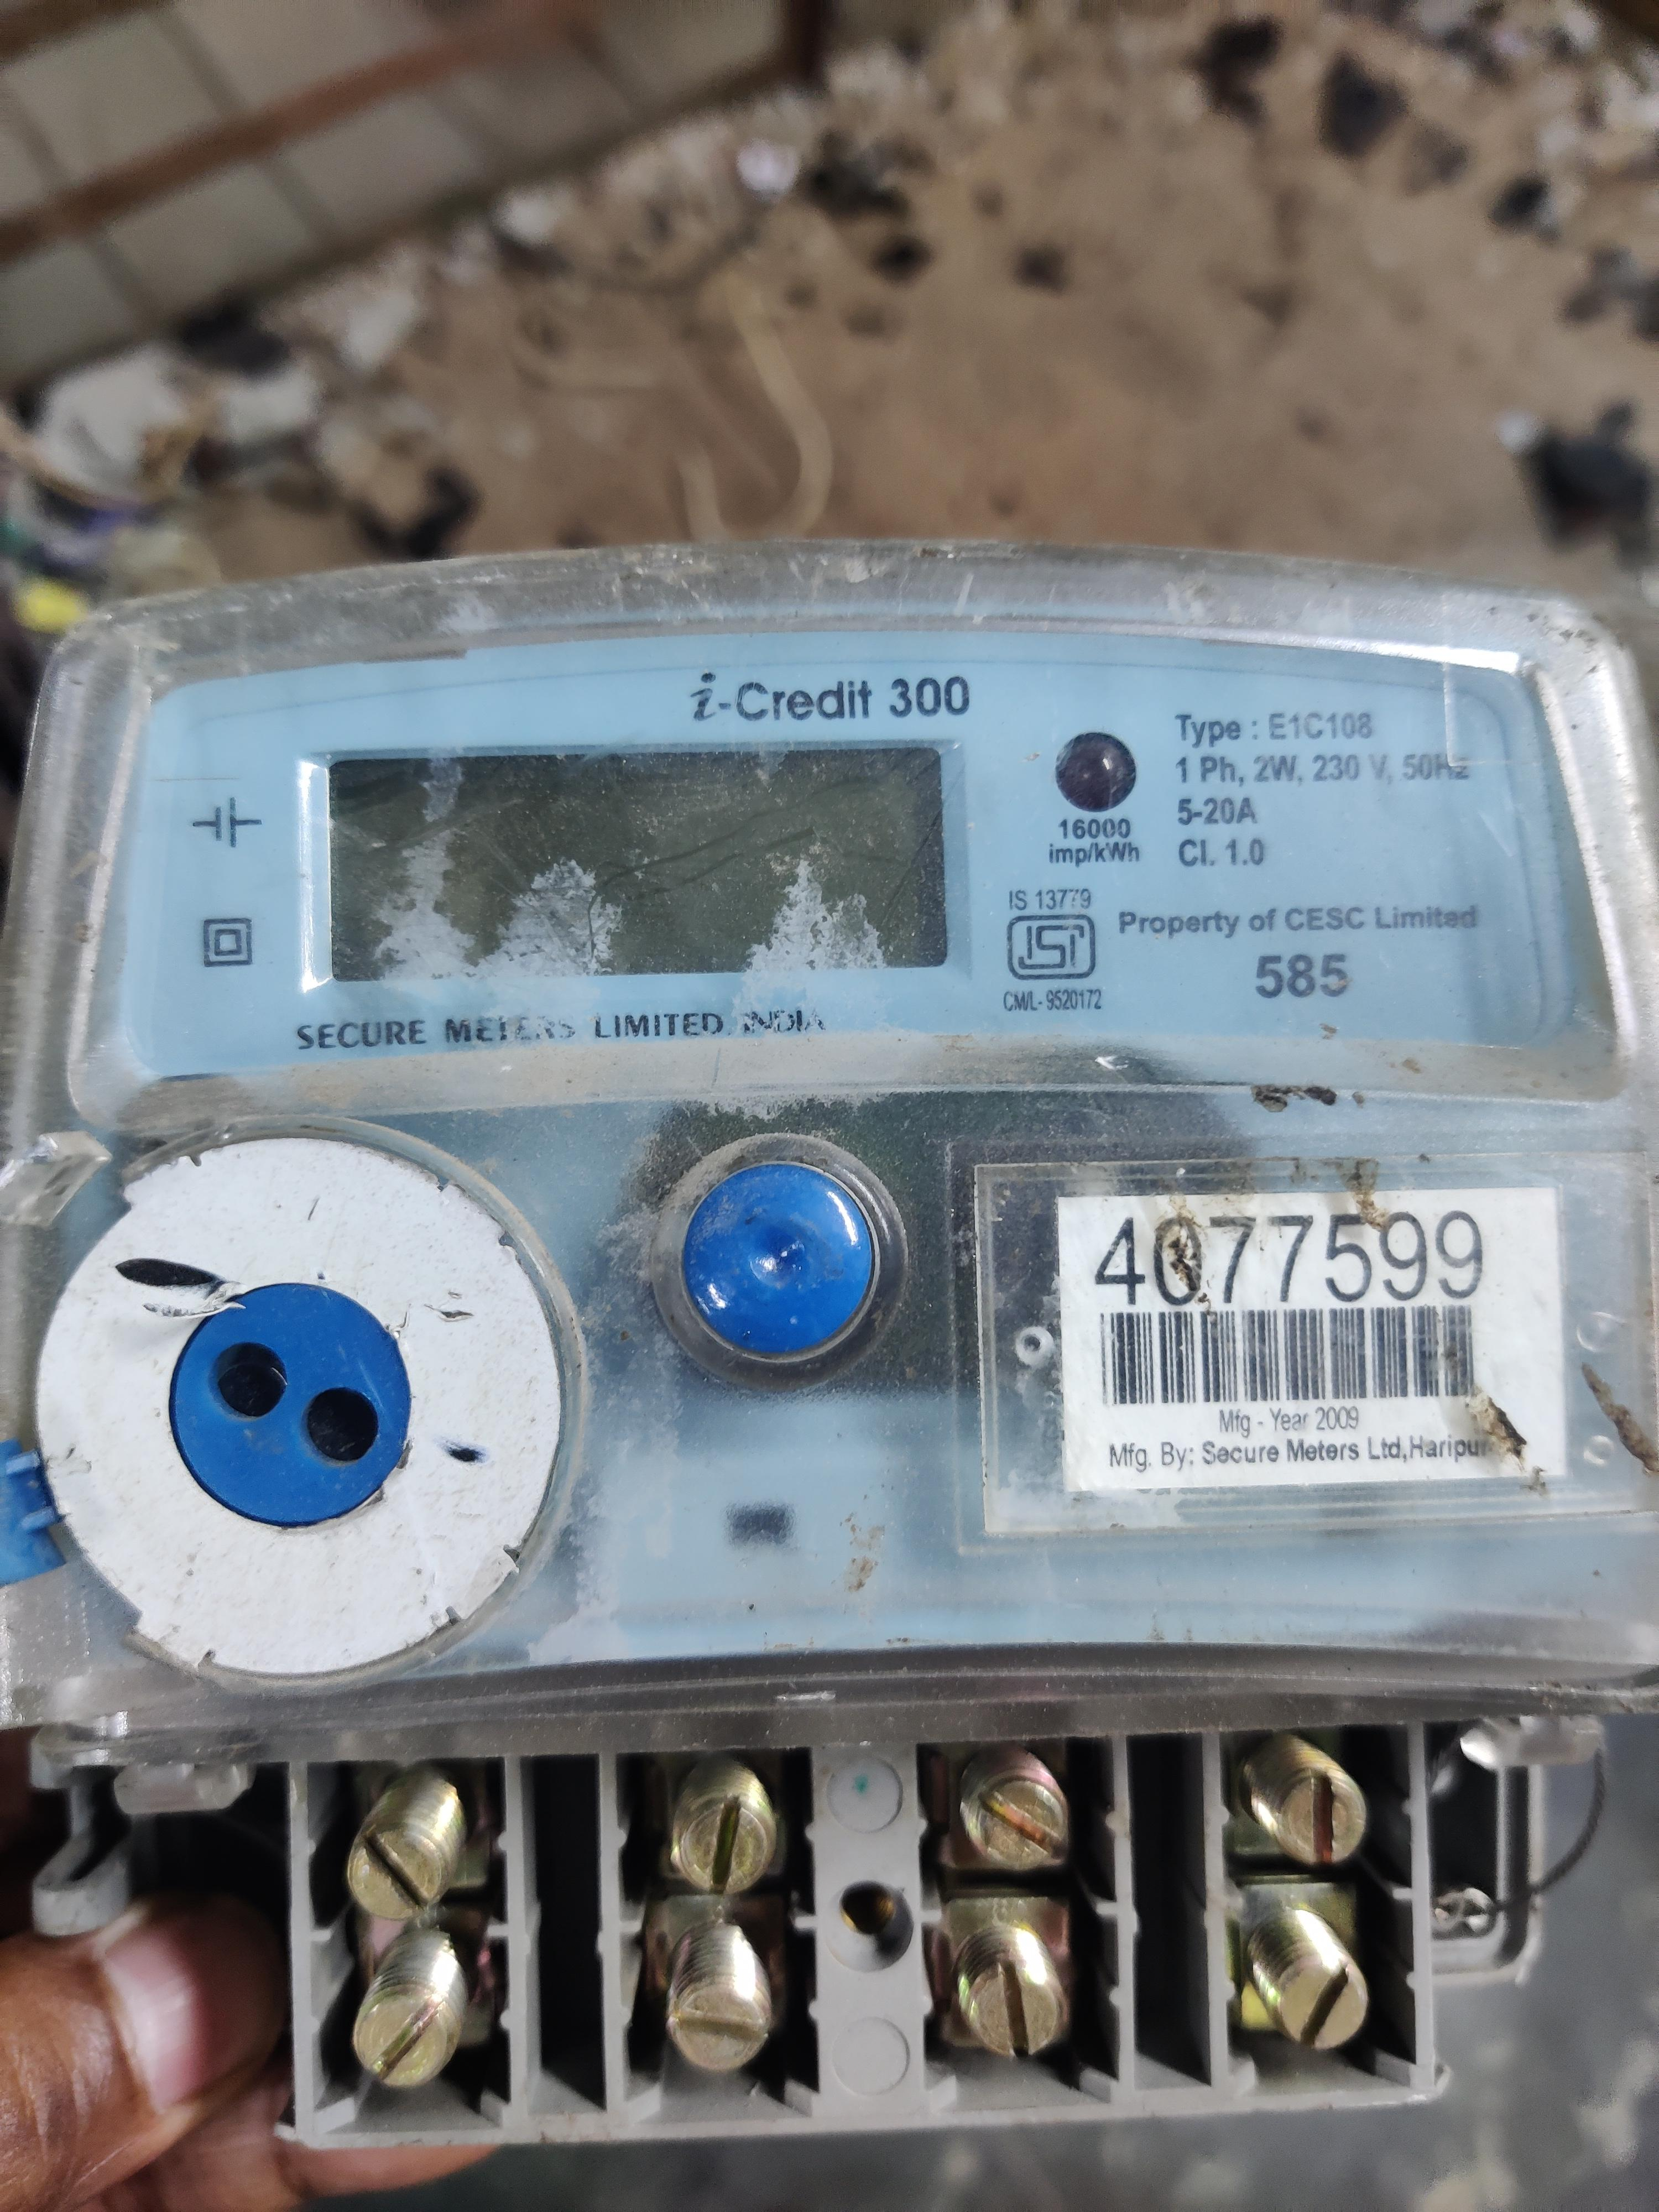meter_readings: (336, 763, 948, 961)
serial_number: (1073, 1204, 1492, 1301)
